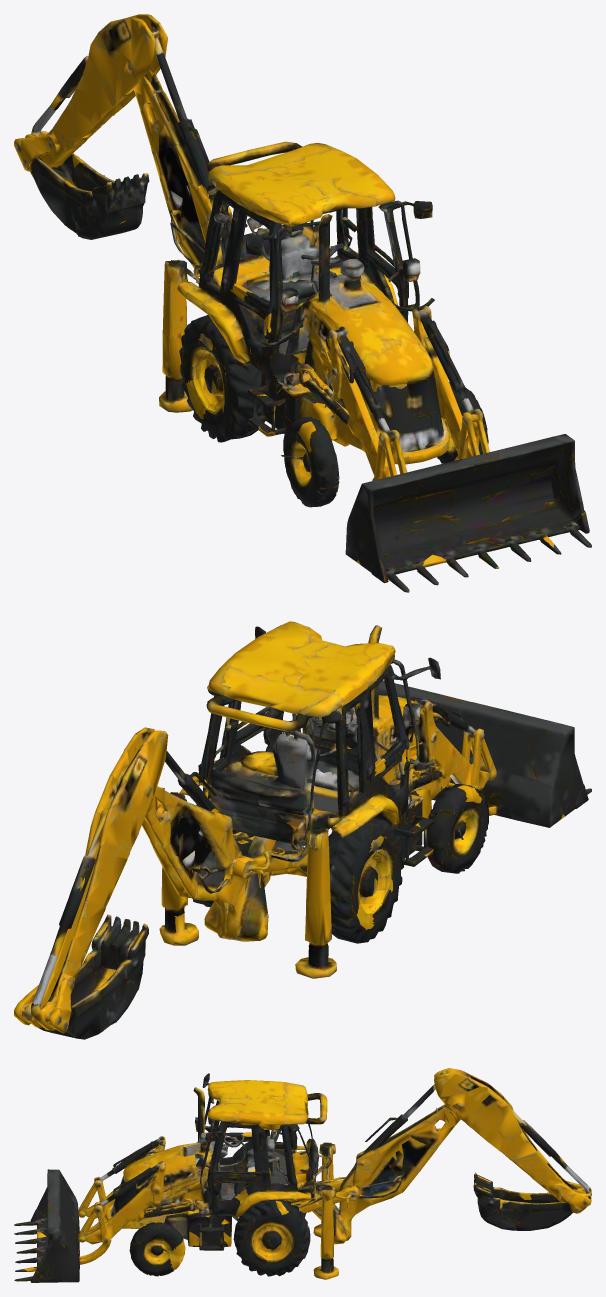
Rendered from bull1.glb.
3 renders of one model, top to bottom at view 1: azimuth 30°, elevation 25°; view 2: azimuth 150°, elevation 25°; view 3: azimuth 270°, elevation 25°, orthographic. The views are drawn at different scales.
Parts seen in each view (by area): view 1: Bulldozer, Loader; view 2: Bulldozer, Loader; view 3: Bulldozer, Loader.
Part boxes in pixels (<box>): Bulldozer: <box>14,14,488,507</box>; Loader: <box>328,306,591,592</box>; Bulldozer: <box>14,621,489,1039</box>; Loader: <box>378,680,591,827</box>; Bulldozer: <box>113,1068,591,1279</box>; Loader: <box>14,1136,165,1282</box>.
Size of the model in its own units: 1.57 by 2.13 by 6.08.
1 material, 1 textured.
